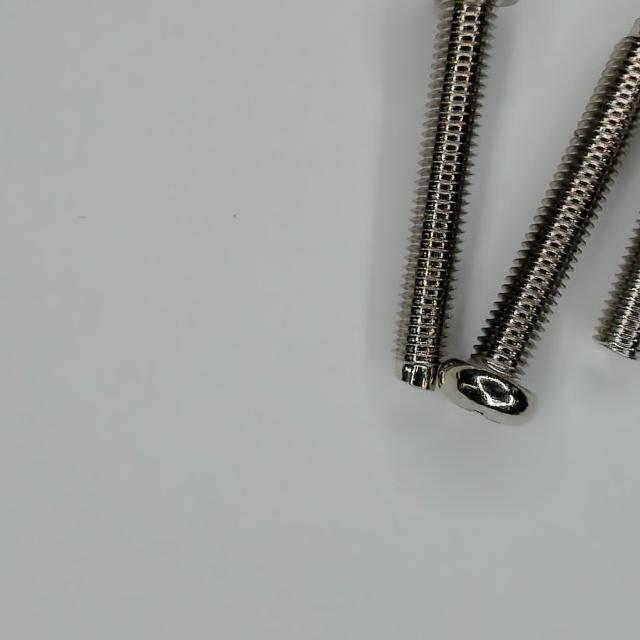Screw: (439, 21, 640, 424), (398, 0, 495, 390), (596, 227, 640, 358)
